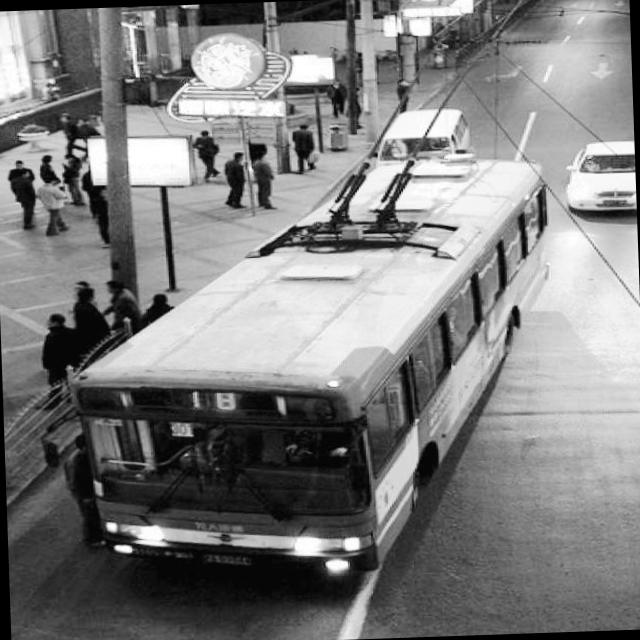Bus: (40, 130, 578, 605)
Car: (356, 99, 469, 172), (552, 132, 636, 226)
